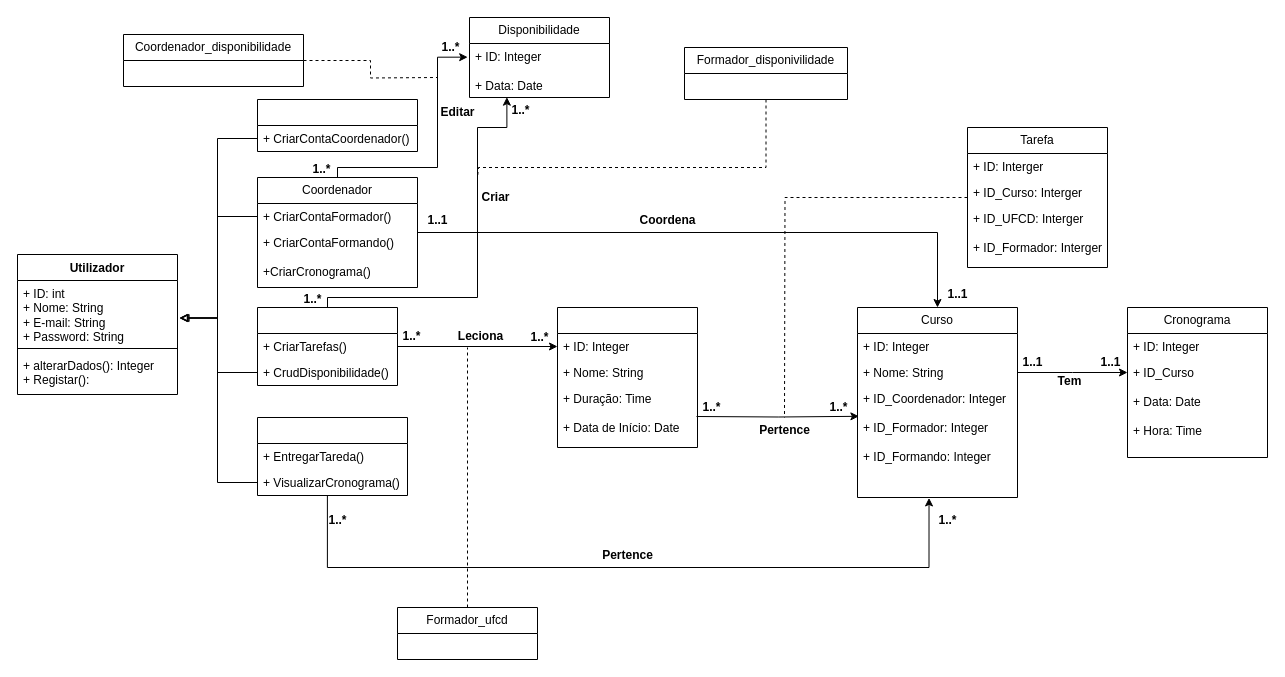
This 1285x677 diagram has some shape labels left out. The shapes that lost their labels are listed below. From the top down, each one's box as (x1, y1, x2, y2) in pixels, then its label:
(256, 98, 418, 152): Administrador
(256, 306, 398, 386): Formador
(556, 306, 698, 448): UFCD
(256, 416, 408, 496): Formando
